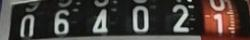digits: (18, 0, 40, 39), (208, 0, 229, 37), (131, 4, 149, 32), (171, 3, 189, 30), (53, 8, 70, 34), (91, 8, 108, 32)
